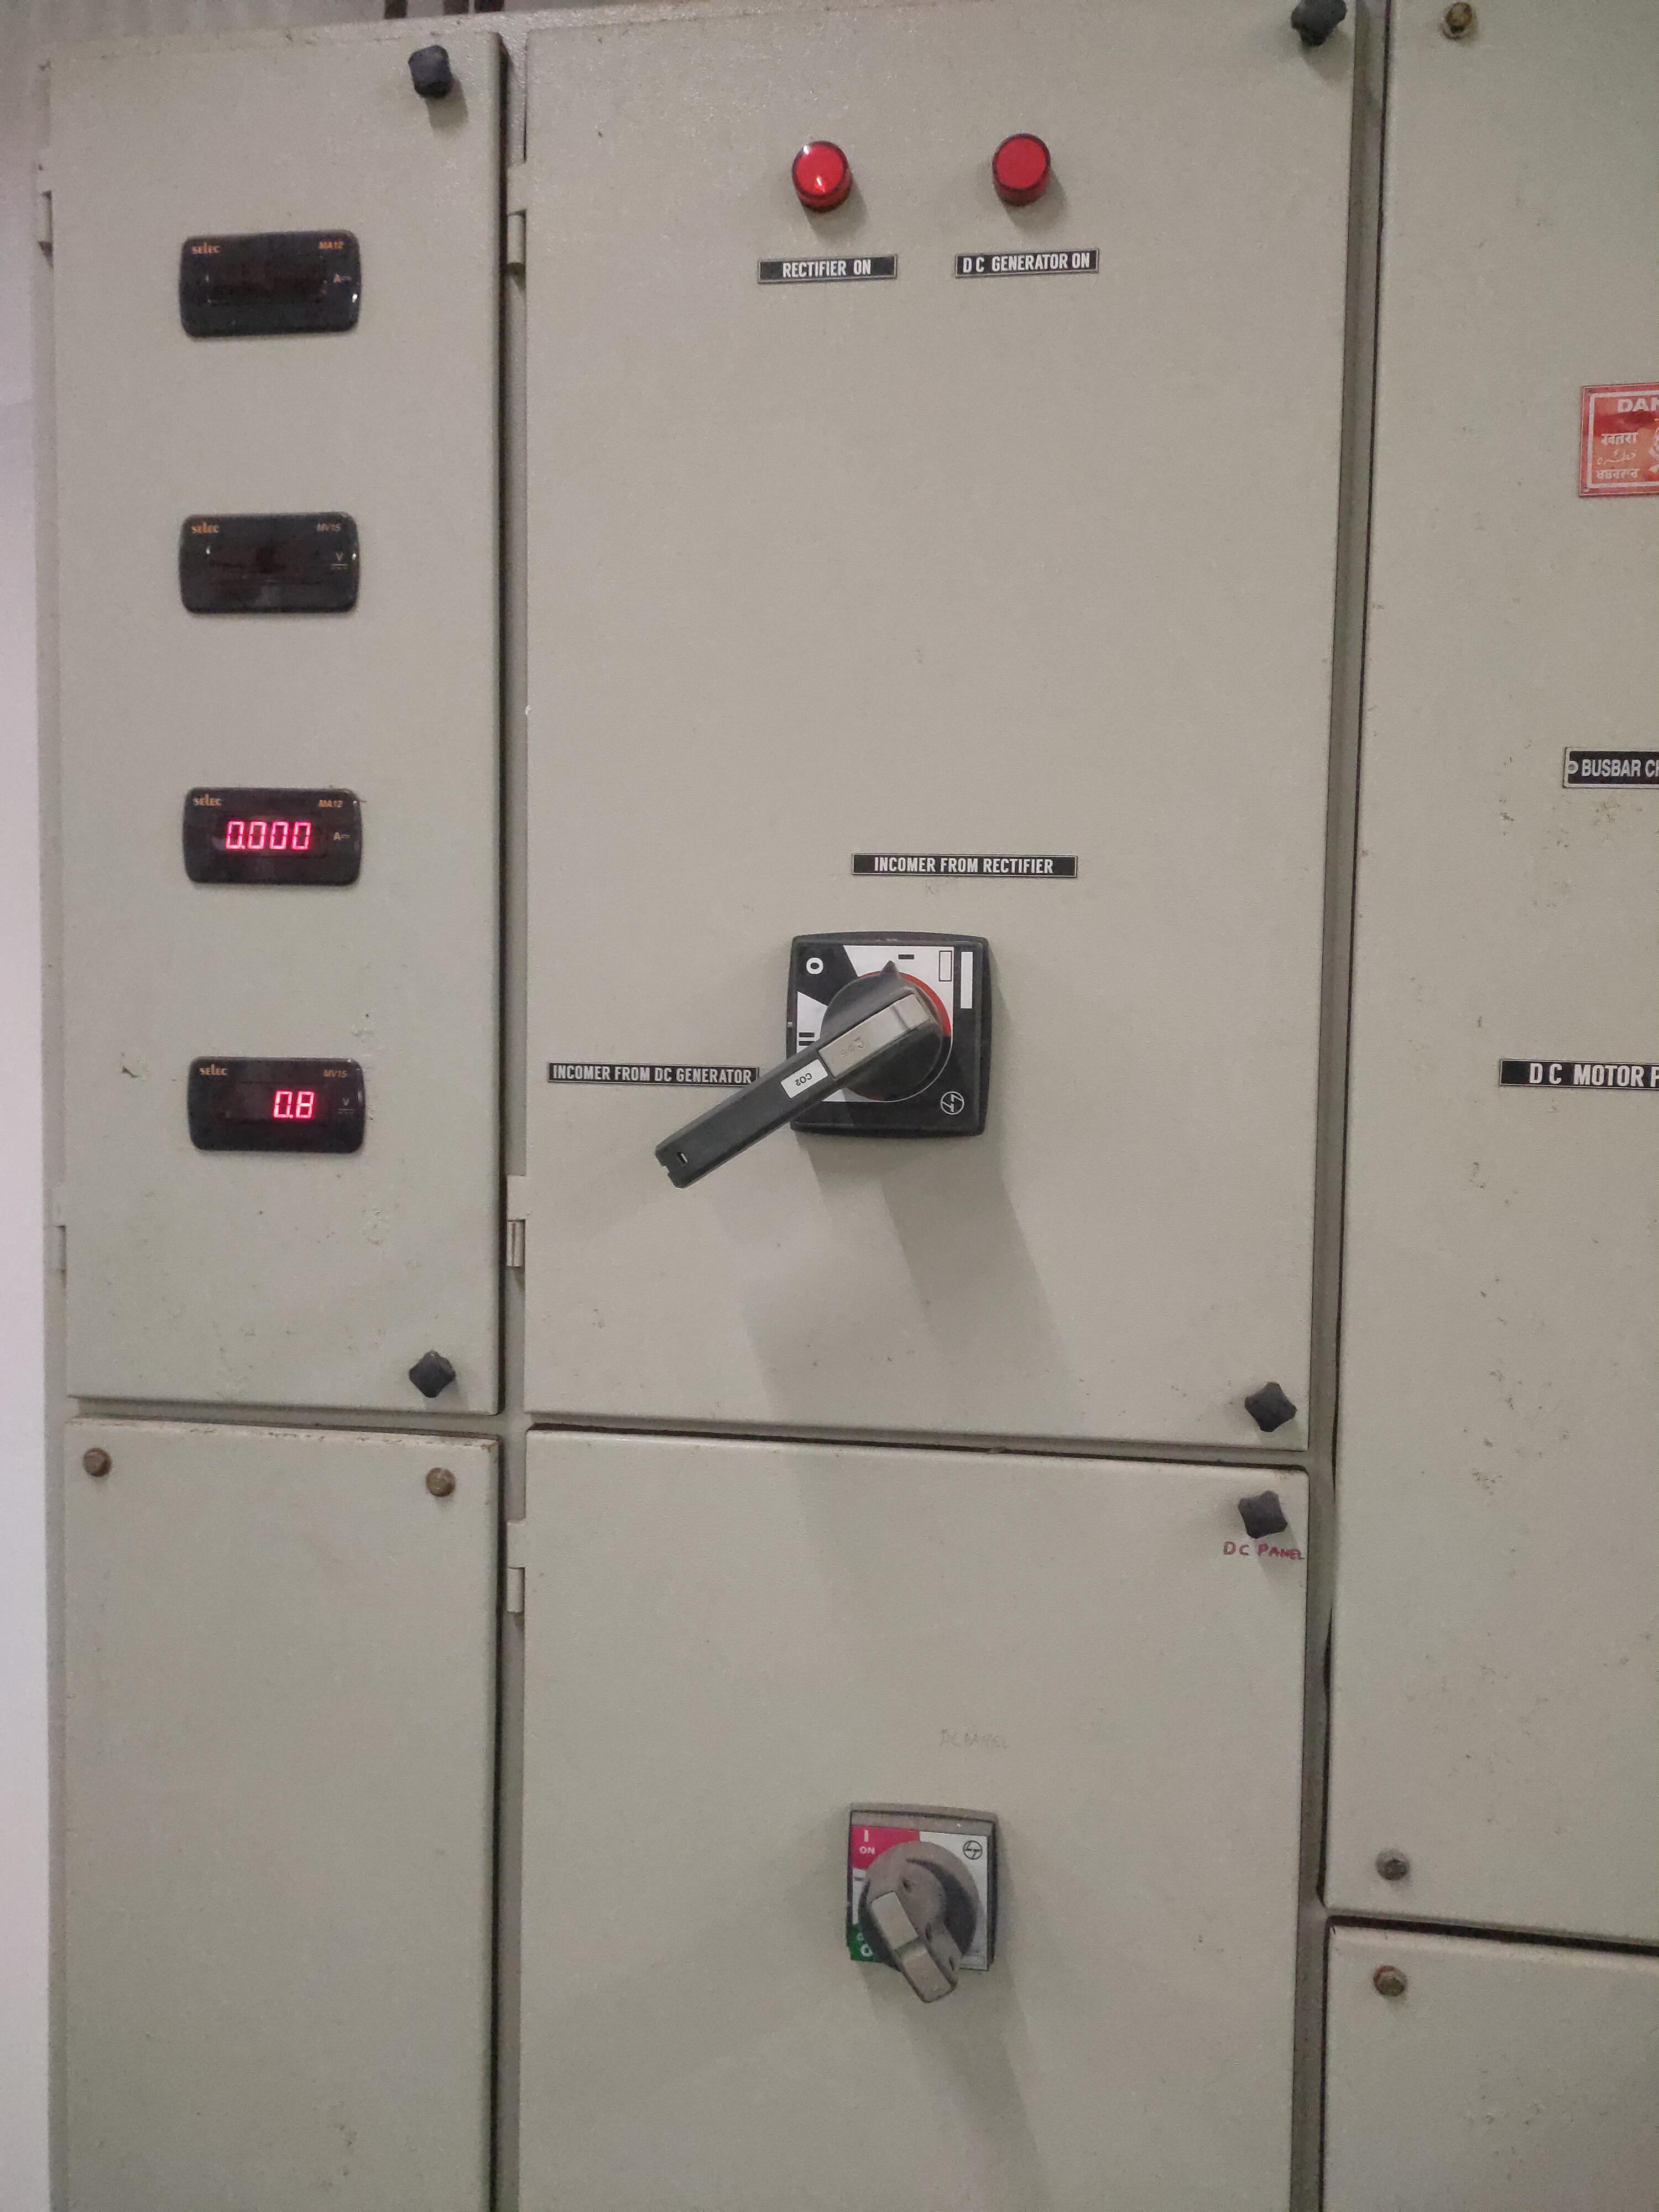Knob 1: (640, 873, 1058, 1247)
Knob 2: (803, 1757, 1037, 2031)
Light Indications: (742, 101, 1155, 305)
